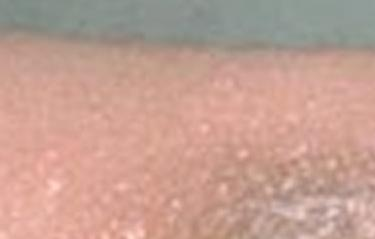plaque psoriasis: (100, 193, 375, 239)
